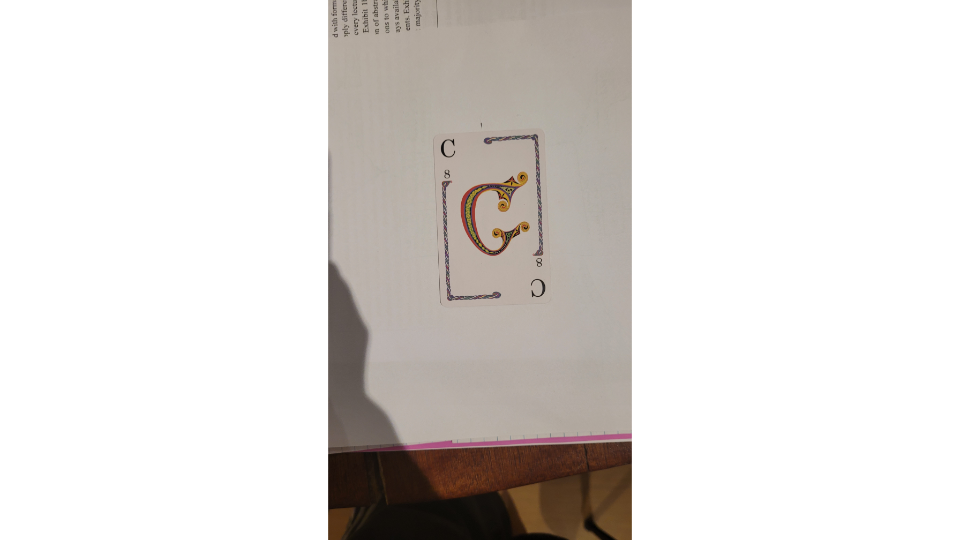C: (428, 126, 554, 308)
